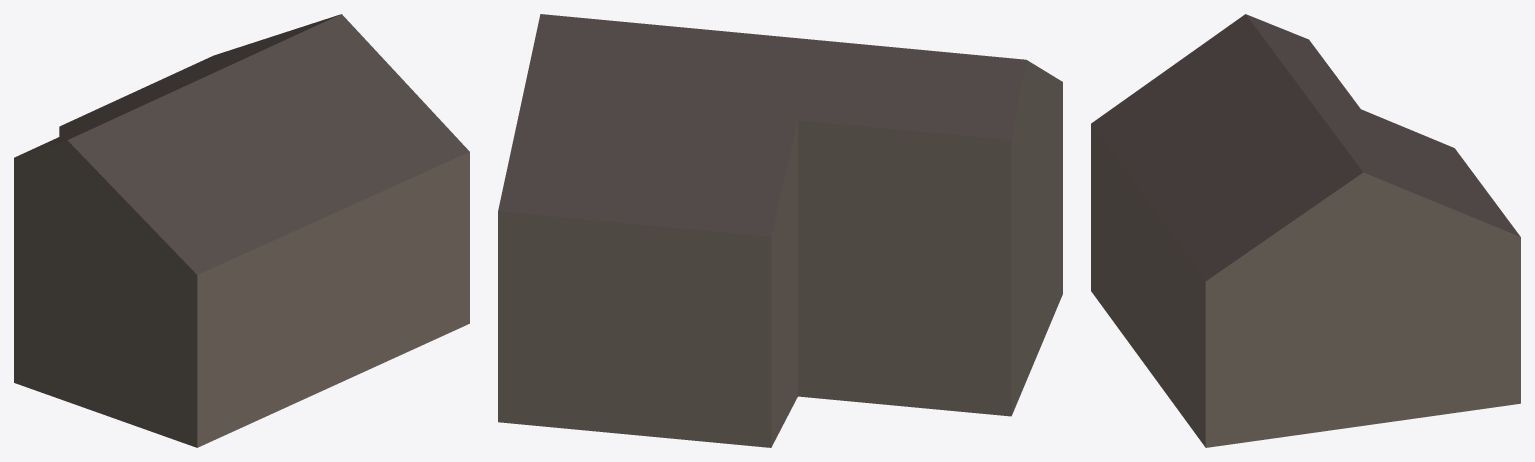
3 views of the same model, side by side, from view 1: azimuth 30°, elevation 25°; view 2: azimuth 150°, elevation 25°; view 3: azimuth 270°, elevation 25° (orthographic). The views are drawn at different scales.
Parts seen in each view (by area): view 1: HP-w1198020605; view 2: HP-w1198020605; view 3: HP-w1198020605.
Part boxes in pixels (box(x1,y1,x2,y2)): HP-w1198020605: box(14, 14, 469, 447); HP-w1198020605: box(498, 14, 1062, 447); HP-w1198020605: box(1091, 14, 1520, 447).
Bounding box in the file's own units: 14.7 × 9.13 × 14.04.
